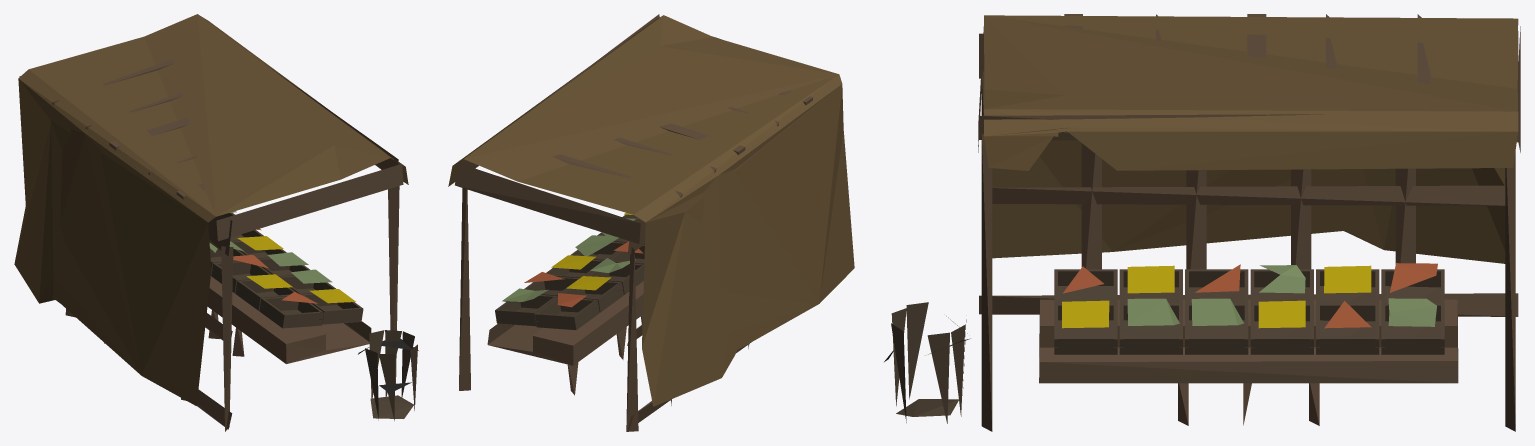
File: market-stall.lod2.glb
The picture shows the model from 3 angles, left to right: view 1: azimuth 30°, elevation 25°; view 2: azimuth 150°, elevation 25°; view 3: azimuth 270°, elevation 25°; orthographic projection. The views are drawn at different scales.
Parts seen in each view (by area): view 1: Stall_Fabric 22_0; view 2: Stall_Fabric 22_0; view 3: Stall_Fabric 22_0.
Boxes of the visible parts, x1,y1,x2,y2 form: Stall_Fabric 22_0: (14, 14, 418, 431); Stall_Fabric 22_0: (448, 14, 854, 431); Stall_Fabric 22_0: (884, 14, 1520, 431).
Bounding box in the file's own units: 2.72 × 2.69 × 4.89.
